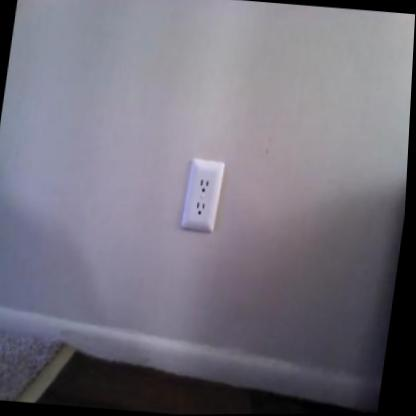OUTLET: (179, 157, 227, 235)
